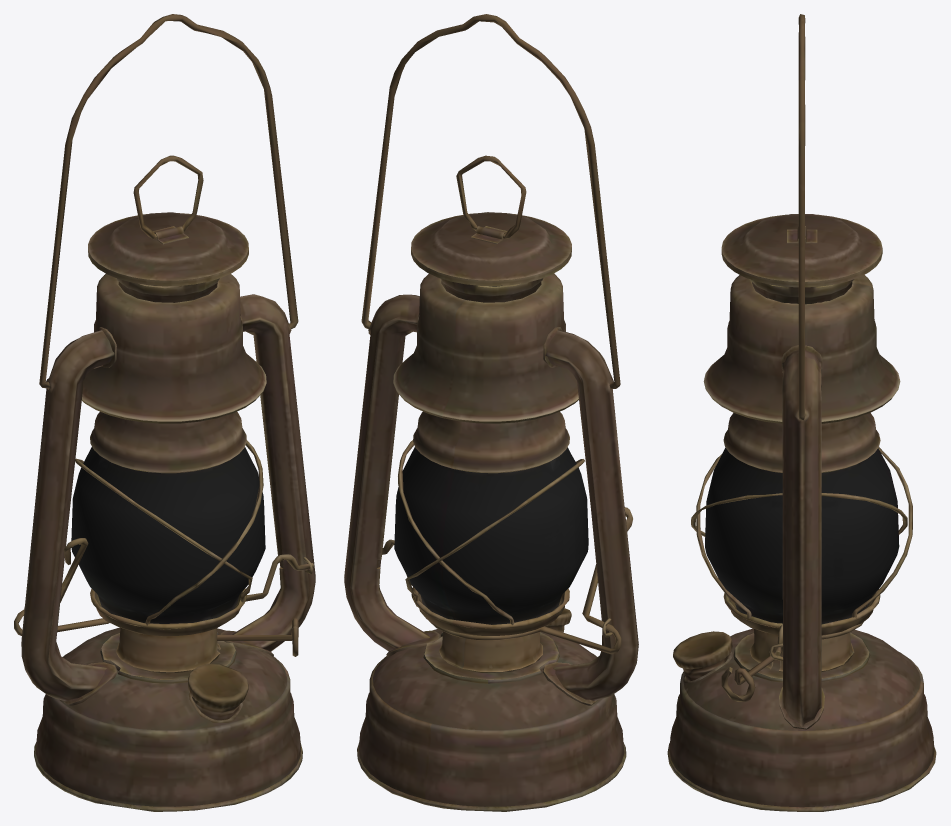
Rendered from lanterna.glb.
3 renders of one model, left to right at view 1: azimuth 30°, elevation 25°; view 2: azimuth 150°, elevation 25°; view 3: azimuth 270°, elevation 25°, orthographic.
Parts seen in each view (by area): view 1: Lantern_01, Lantern_01_glass; view 2: Lantern_01, Lantern_01_glass; view 3: Lantern_01, Lantern_01_glass.
Boxes of the visible parts, left/top/right/bottom form: Lantern_01: left=14, top=14, right=315, bottom=811; Lantern_01_glass: left=71, top=447, right=265, bottom=623; Lantern_01: left=344, top=14, right=638, bottom=811; Lantern_01_glass: left=394, top=447, right=588, bottom=624; Lantern_01: left=667, top=14, right=936, bottom=811; Lantern_01_glass: left=705, top=447, right=899, bottom=624.
Bounding box in the file's own units: 0.1219 × 0.2939 × 0.097.
2 materials, 2 textured.
